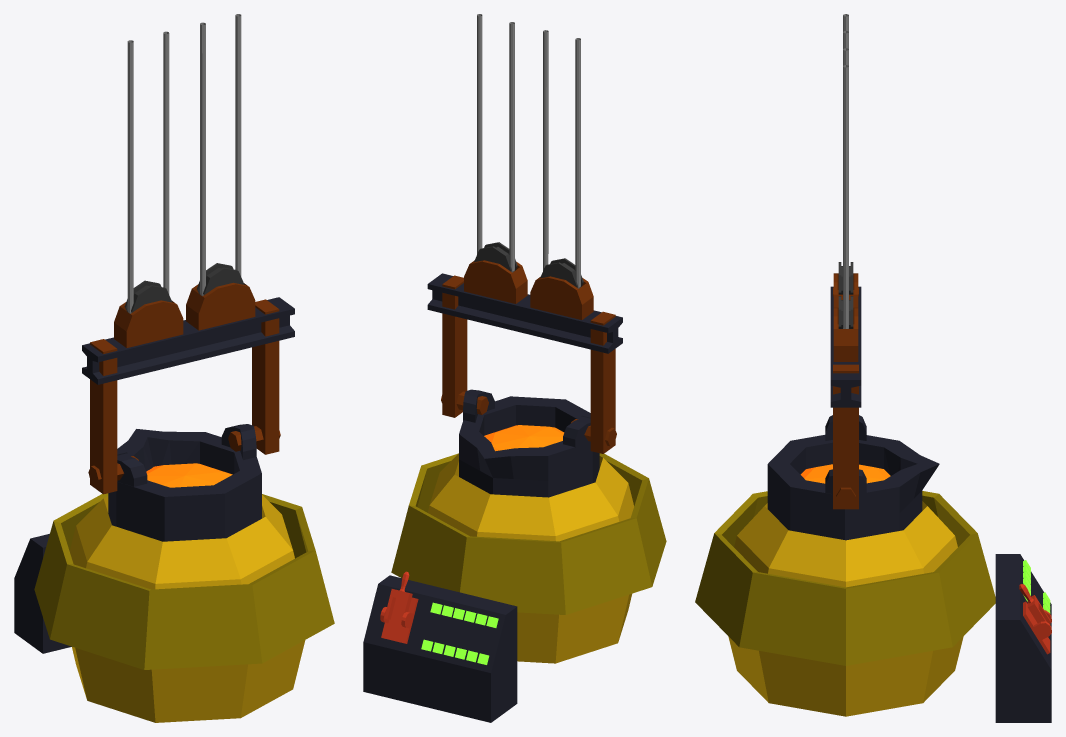
The model's file is meltingmachineMelter.fbx.
3 views of the same model, side by side, from view 1: azimuth 30°, elevation 25°; view 2: azimuth 150°, elevation 25°; view 3: azimuth 270°, elevation 25° (orthographic). The views are drawn at different scales.
Parts seen in each view (by area): view 1: Sphere, Cube.001, Cylinder.004, Cylinder.006, Cube.002, Cube.005, Cube.011, Cylinder.005, Cylinder.011; view 2: Sphere, Cube.011, Cube.001, Cylinder.004, Cylinder.006, Cube.002, Cube.005, Cube.013, Cube.012, Cylinder.005, Cylinder.011; view 3: Sphere, Cube.001, Cube.011, Cylinder.004, Cylinder.006, Cube.002, Cube.005, Cube.013.
Part boxes in pixels (x1,y1,x2,y2): Sphere: (34, 493, 334, 722); Cube.001: (108, 424, 261, 541); Cylinder.004: (88, 299, 280, 494); Cylinder.006: (127, 14, 241, 313); Cube.002: (82, 297, 294, 384); Cube.005: (114, 282, 255, 347); Cube.011: (14, 533, 71, 653); Cylinder.005: (124, 280, 171, 312); Cylinder.011: (197, 263, 244, 294); Sphere: (391, 453, 666, 663); Cube.011: (363, 575, 517, 722); Cube.001: (459, 389, 599, 497); Cylinder.004: (441, 275, 616, 453); Cylinder.006: (477, 14, 580, 288); Cube.002: (427, 273, 622, 353); Cube.005: (464, 260, 593, 319); Cube.013: (380, 571, 418, 643); Cube.012: (421, 602, 498, 664); Cylinder.005: (540, 258, 583, 287); Cylinder.011: (474, 242, 517, 271); Sphere: (695, 491, 995, 716); Cube.001: (767, 415, 939, 540); Cube.011: (995, 554, 1051, 722); Cylinder.004: (833, 287, 858, 509); Cylinder.006: (843, 14, 848, 328); Cube.002: (830, 286, 861, 407); Cube.005: (833, 273, 858, 361); Cube.013: (1019, 584, 1051, 654).
Size of the model in its own units: 516 by 1218 by 609.
